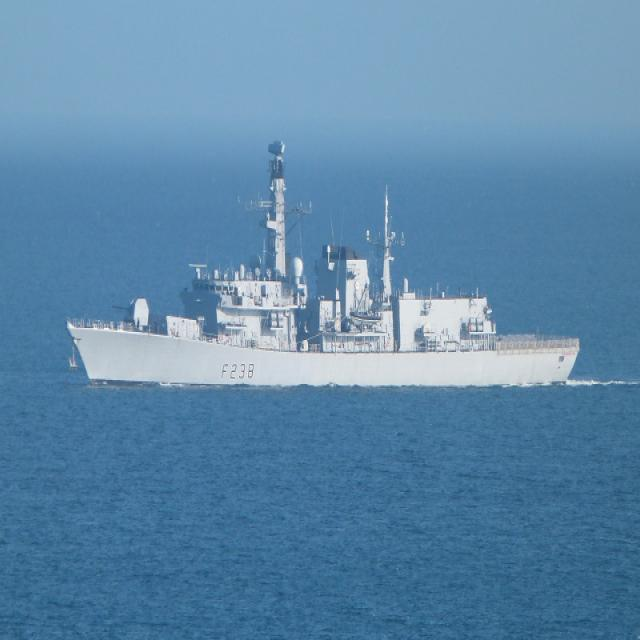Fragata: (65, 134, 584, 396)
